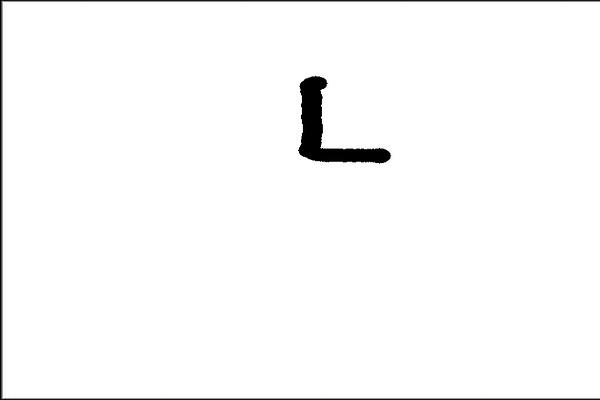L: (291, 70, 397, 169)
